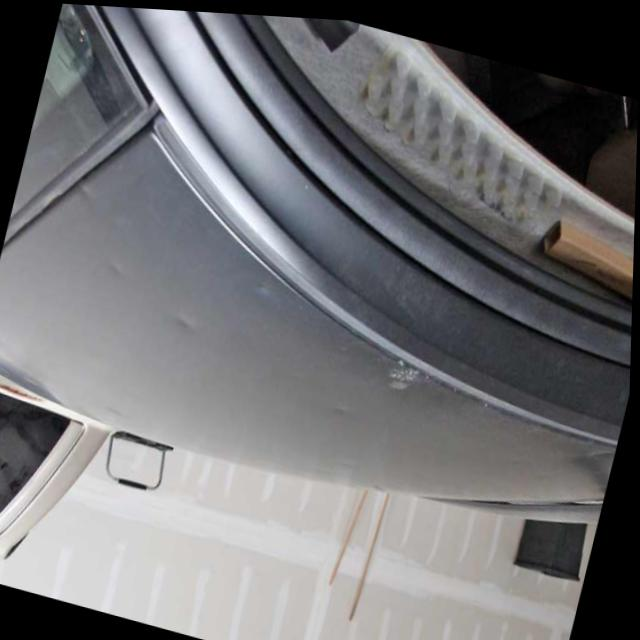Dent: (313, 368, 372, 439), (84, 229, 144, 298), (164, 291, 222, 360), (238, 275, 283, 316), (64, 176, 100, 225)
